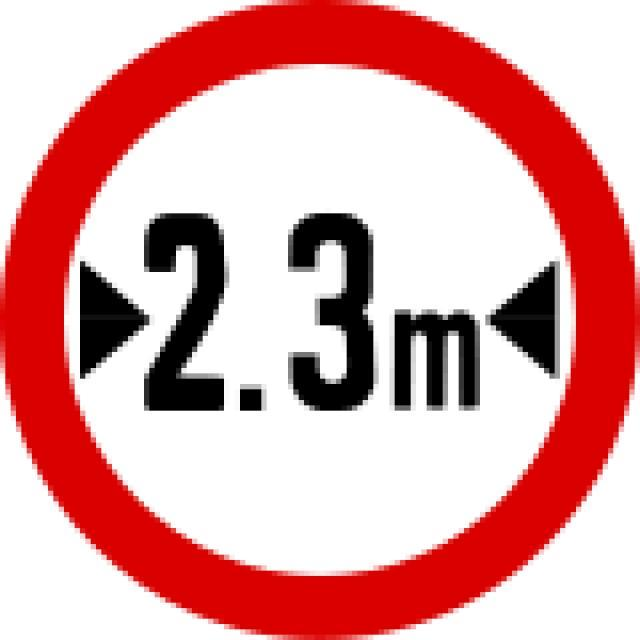width limit: (20, 20, 608, 625)
